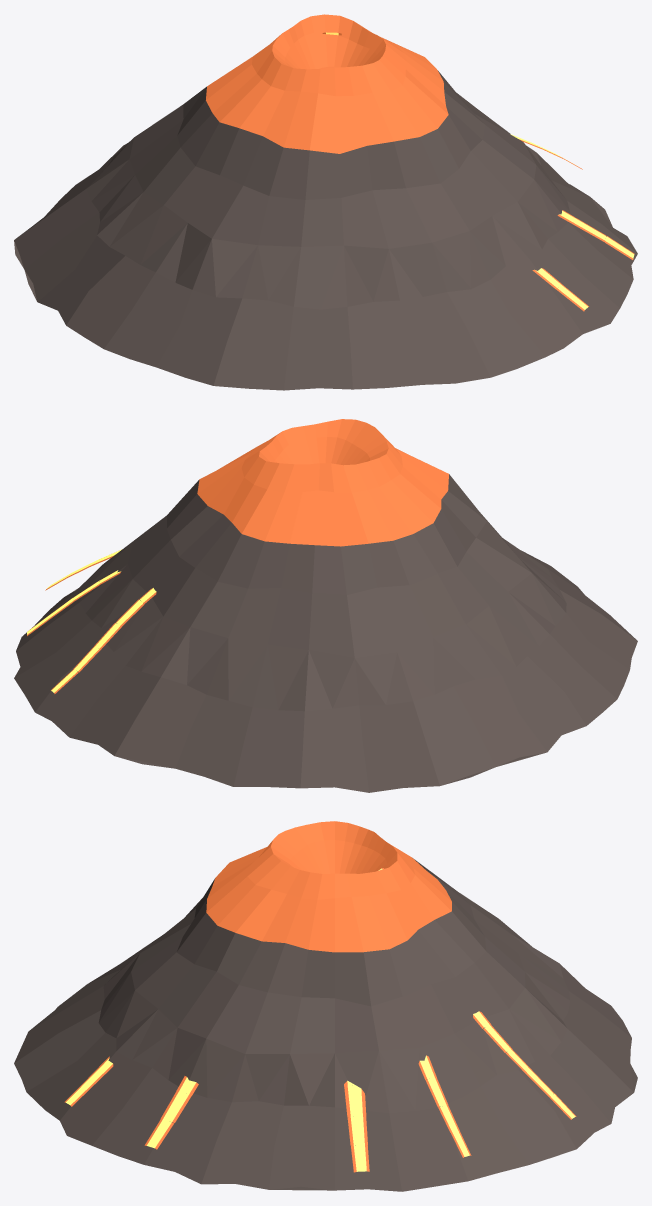
Rendered from Atlantis.fbx.
3 renders of one model, top to bottom at view 1: azimuth 30°, elevation 25°; view 2: azimuth 150°, elevation 25°; view 3: azimuth 270°, elevation 25°, orthographic.
Visible parts, largest first — view 1: volcano, lava_runs; view 2: volcano, lava_runs; view 3: volcano, lava_runs.
Part boxes in pixels (box(x1,y1,x2,y2)): volcano: box(14, 14, 637, 390); lava_runs: box(322, 32, 634, 311); volcano: box(14, 419, 637, 792); lava_runs: box(27, 549, 156, 693); volcano: box(14, 821, 637, 1191); lava_runs: box(64, 868, 576, 1172).
Bounding box in the file's own units: 178 × 72.35 × 183.
